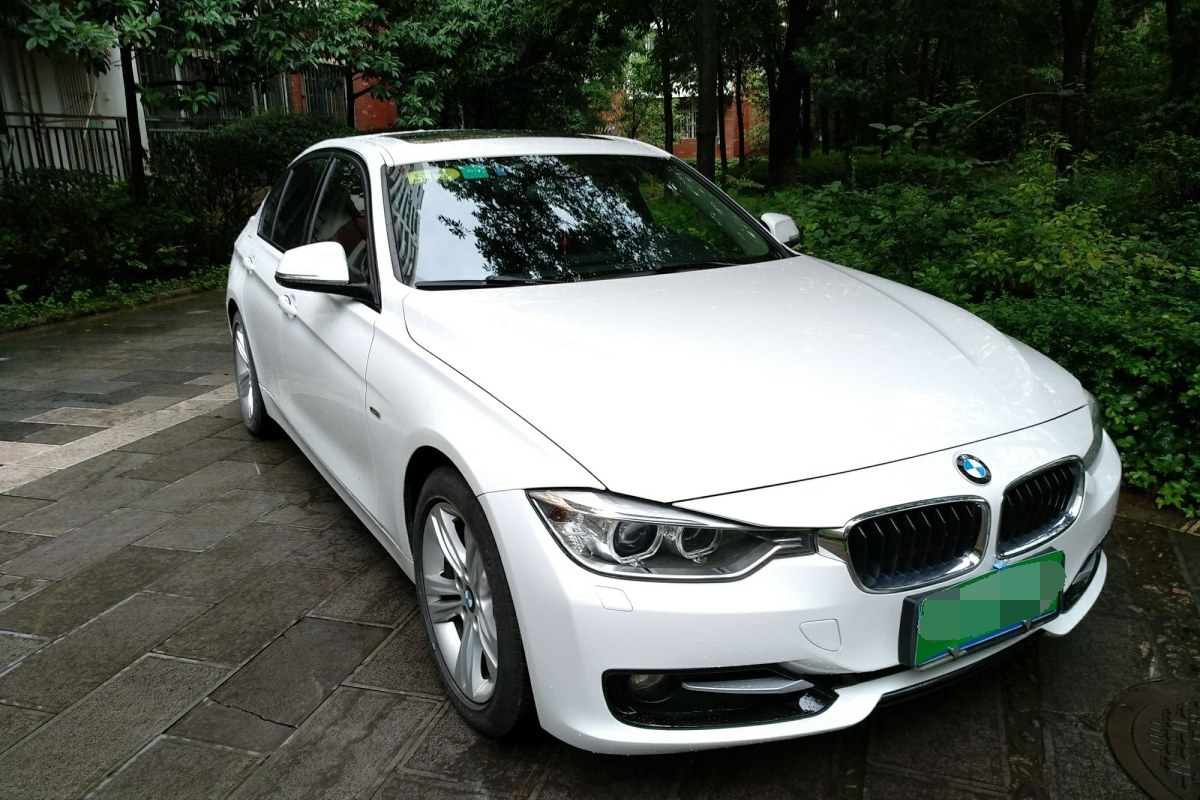family sedan: (217, 96, 1103, 772)
